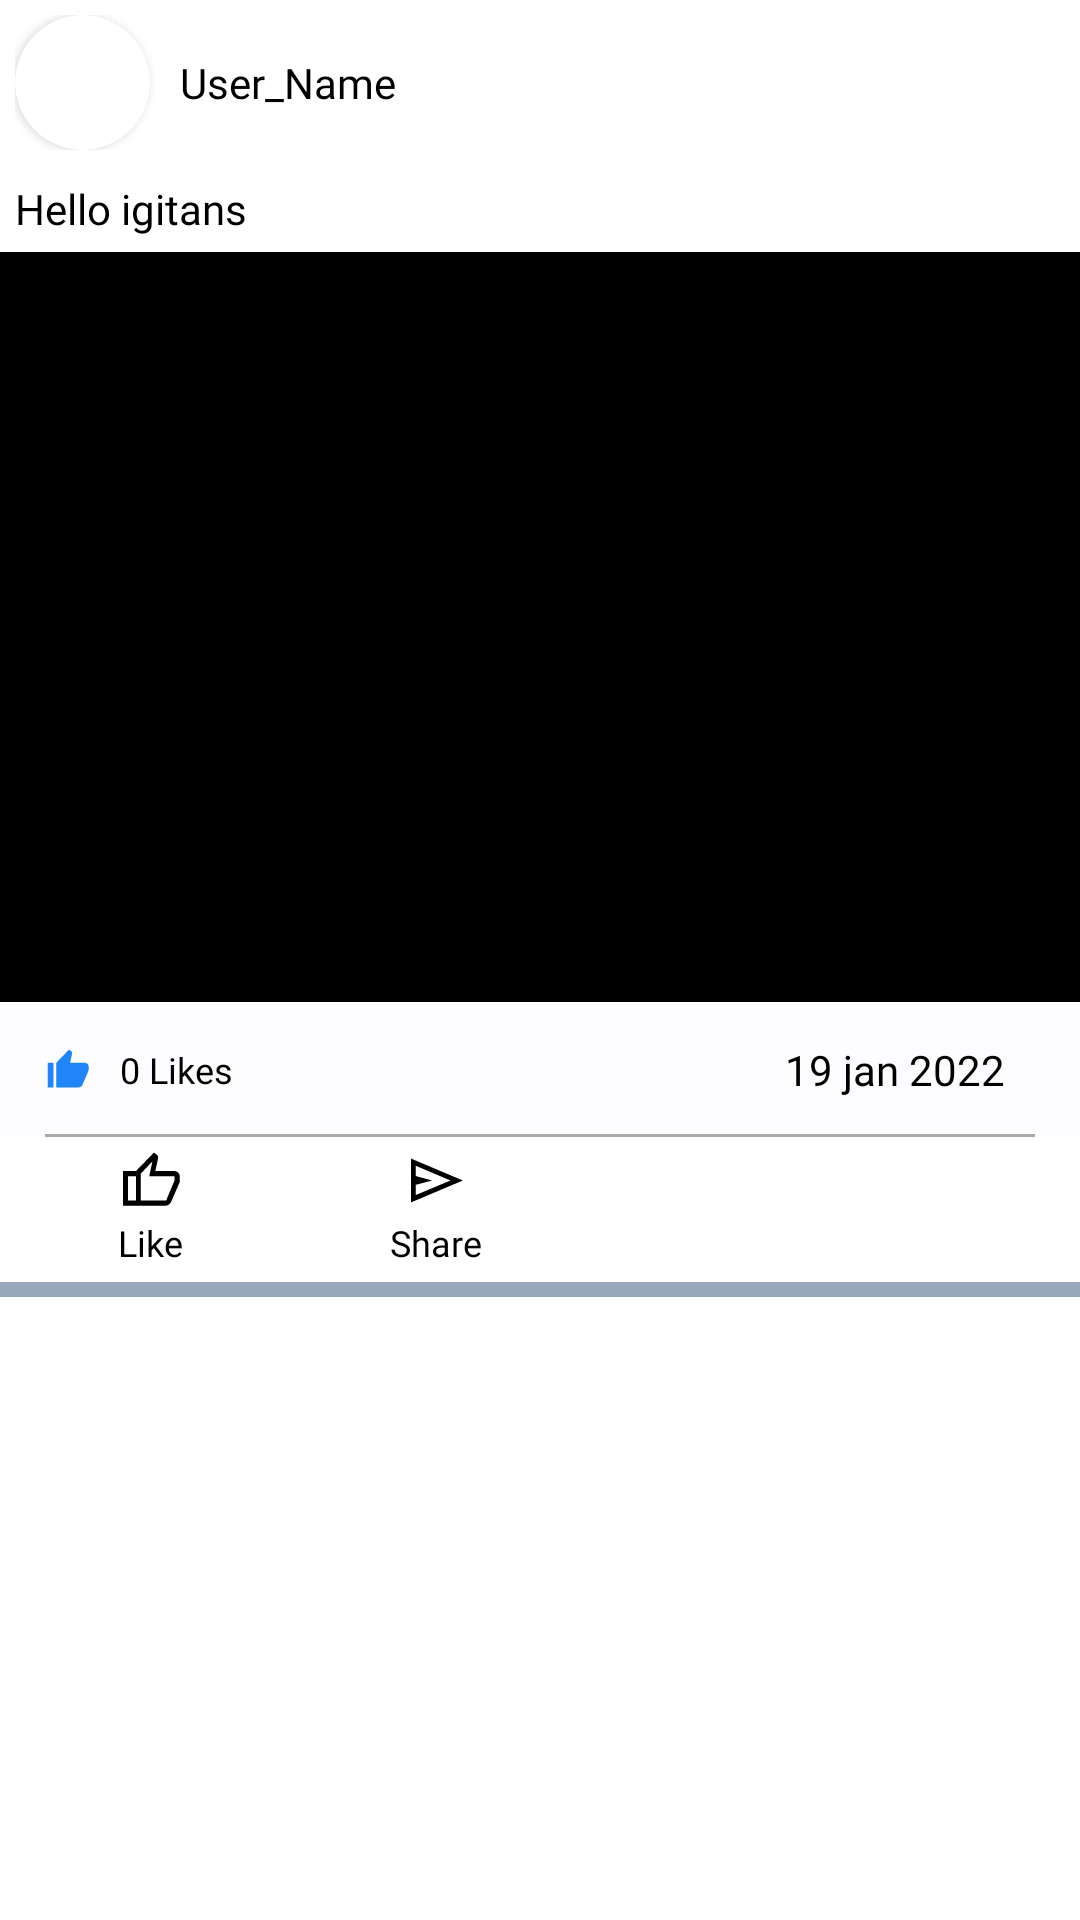

Point at icon controls on the screen. Image size 1080×1920, points as (x=x, y=y).
send: (x=437, y=1180)
